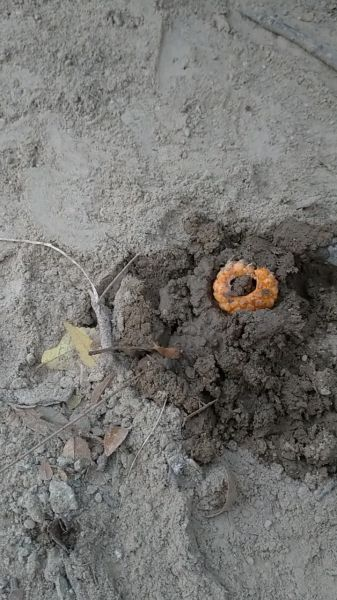eggs: (209, 259, 286, 316)
